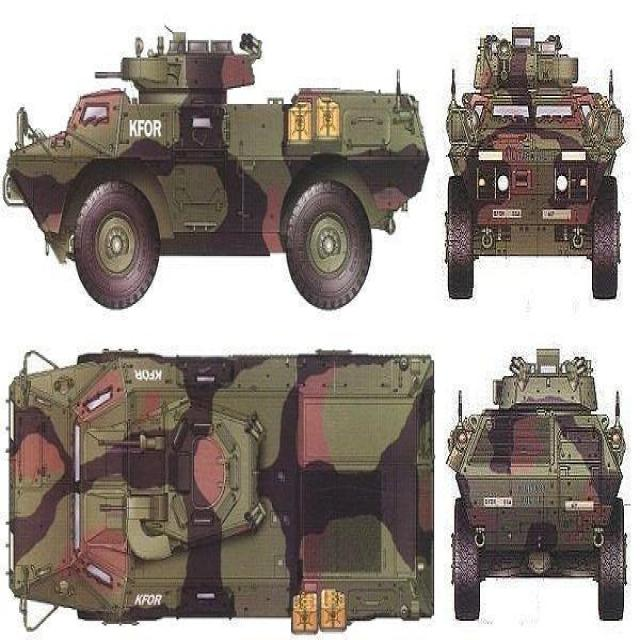Tanks: (2, 343, 437, 636), (0, 19, 430, 314), (444, 18, 625, 305), (445, 346, 629, 626)
